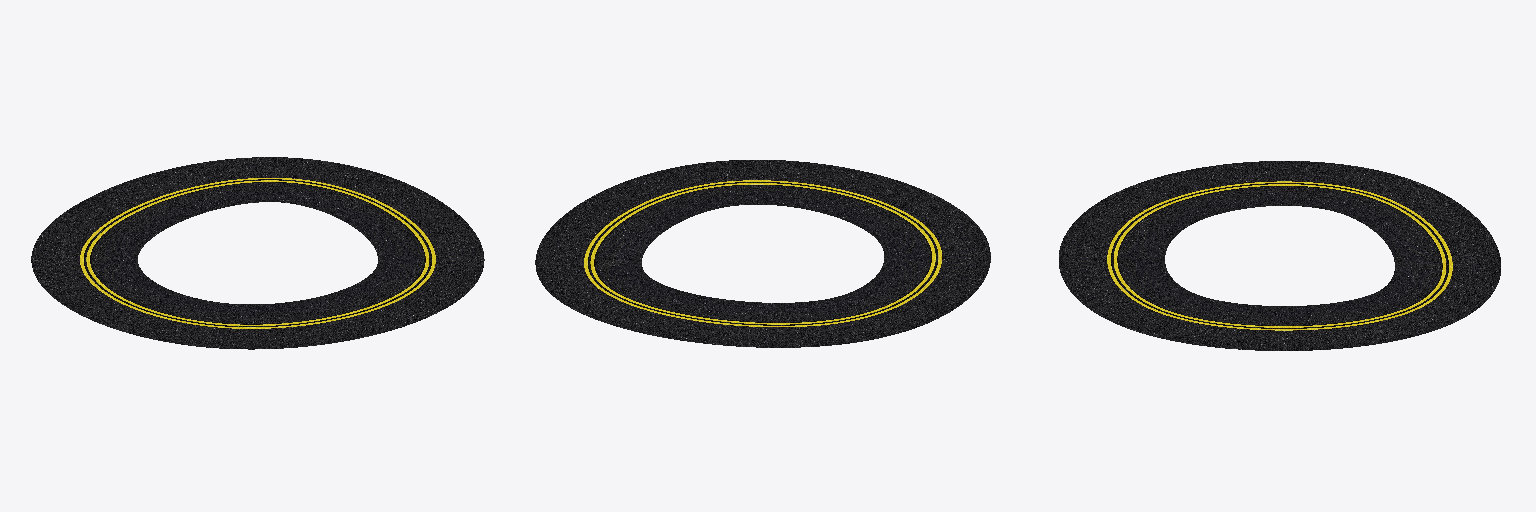
3 renders of one model, left to right at view 1: azimuth 30°, elevation 25°; view 2: azimuth 150°, elevation 25°; view 3: azimuth 270°, elevation 25°, orthographic.
Visible parts, largest first — view 1: road; view 2: road; view 3: road.
Boxes of the visible parts, box(x1,y1,x2,y2) form: road: box(31, 157, 484, 349); road: box(535, 160, 990, 347); road: box(1059, 161, 1500, 350).
Size of the model in its own units: 0.7607 by 0 by 0.7484.
1 materials, 1 textured.